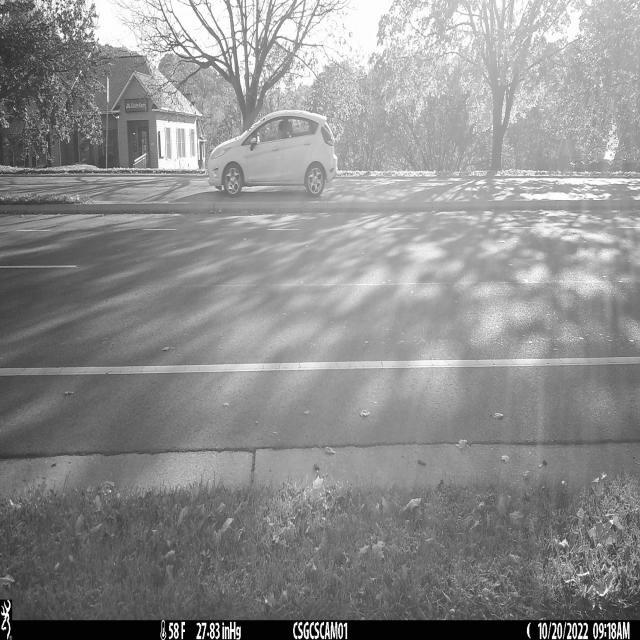Hatchback: (208, 109, 337, 197)
